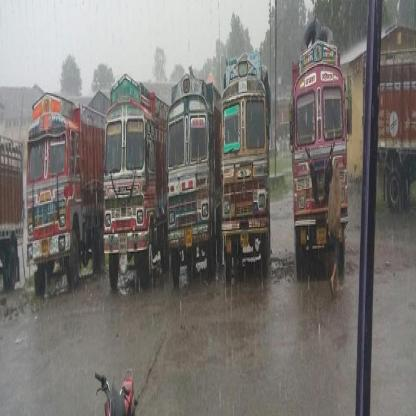truck: (286, 22, 354, 290), (21, 93, 108, 291), (99, 67, 167, 289), (356, 16, 414, 216), (218, 60, 272, 272), (166, 73, 221, 271), (2, 122, 22, 292)
